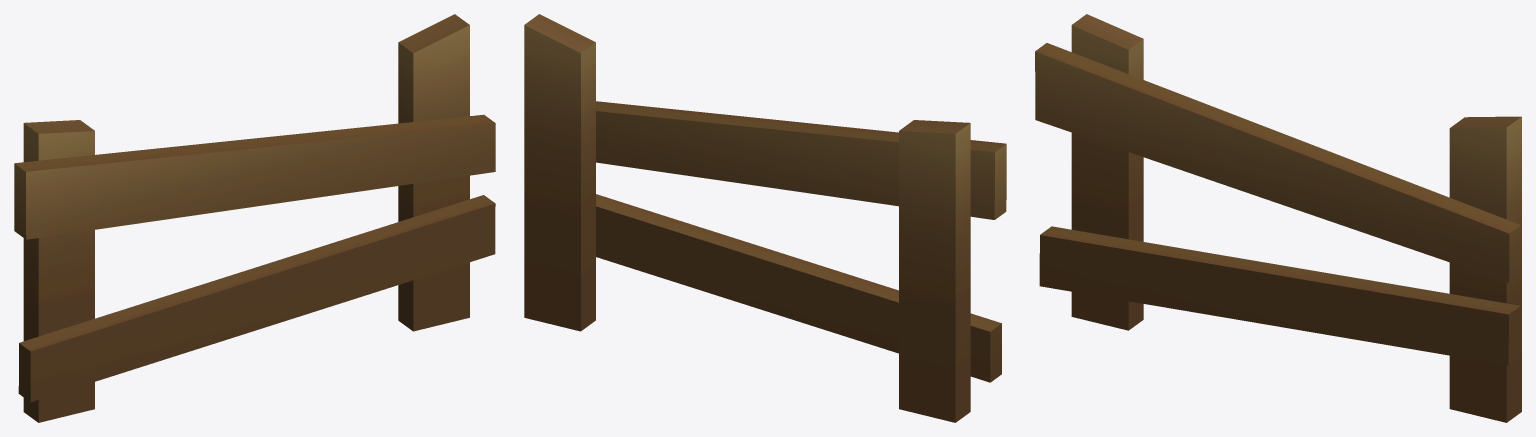
Rendered from pack04_fences_02.fbx.
3 views of the same model, side by side, from view 1: azimuth 30°, elevation 25°; view 2: azimuth 150°, elevation 25°; view 3: azimuth 330°, elevation 25° (orthographic).
Visible parts, largest first — view 1: Big_Fence_05; view 2: Big_Fence_05; view 3: Big_Fence_05.
Boxes of the visible parts, box(x1,y1,x2,y2) form: Big_Fence_05: box(14, 14, 495, 422); Big_Fence_05: box(524, 14, 1006, 422); Big_Fence_05: box(1035, 14, 1521, 422).
Bounding box in the file's own units: 86.38 × 51.42 × 8.52.
1 material, 1 textured.
